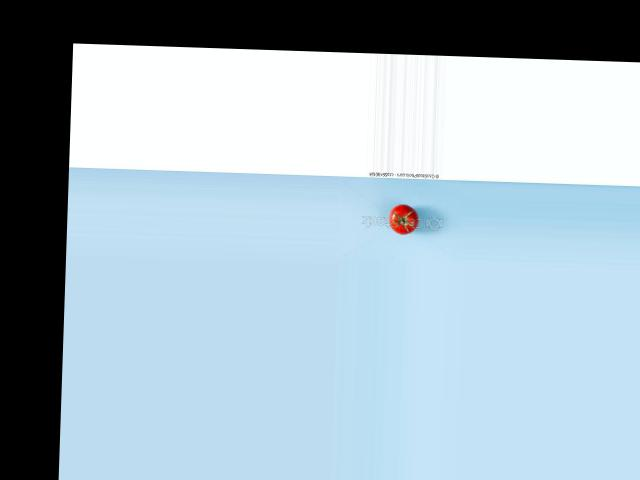tomato: (388, 202, 418, 234)
